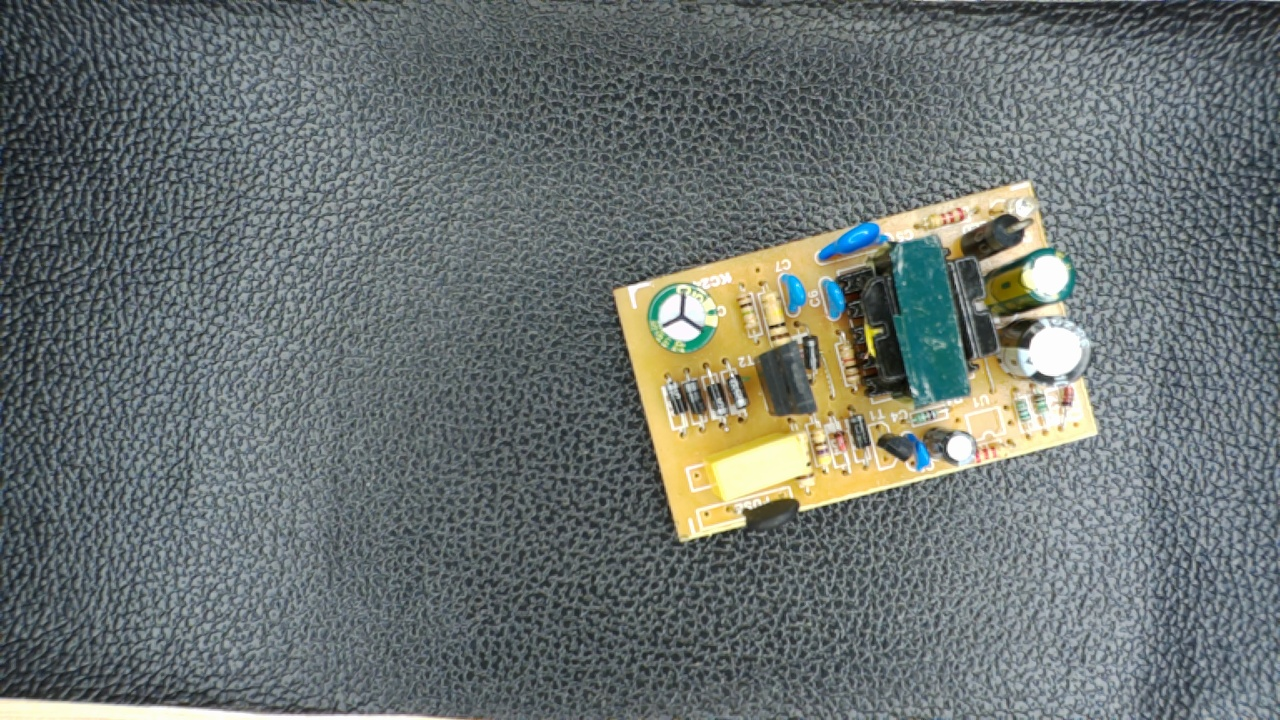fuse: (726, 491, 810, 537)
hv_capacitor: (641, 278, 725, 357)
mov: (812, 218, 903, 267)
